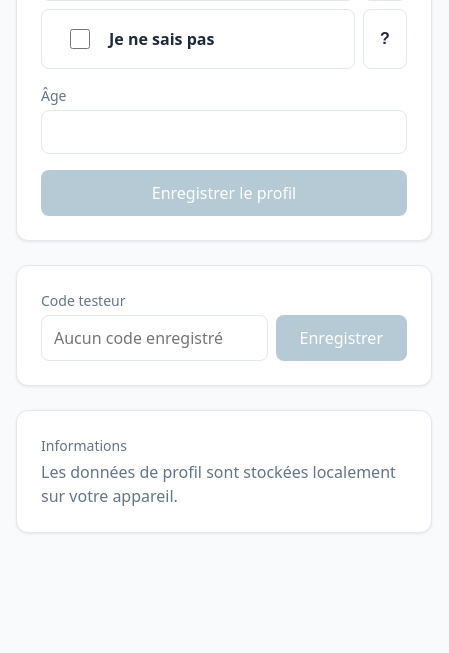
Test: E111Profile › signale une dérivation impossible sans rien enregistrer
(page scrolled)
In the field named "Code testeur": (154, 338) [41,315,268,361], type "dev"
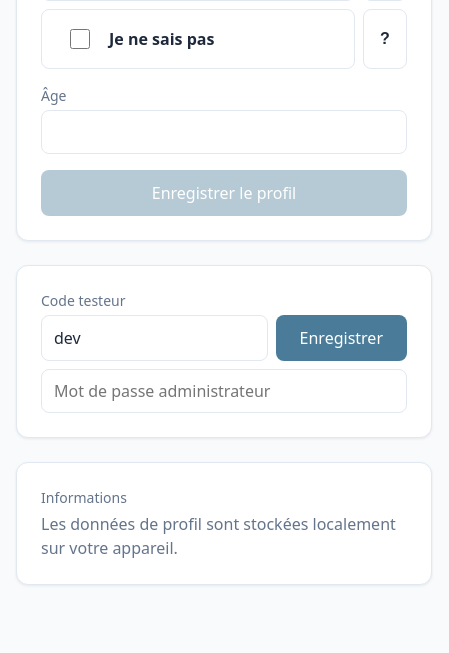
In the password field labelled "Mot de passe administrateur": (224, 391) [41,369,407,413], type "x"
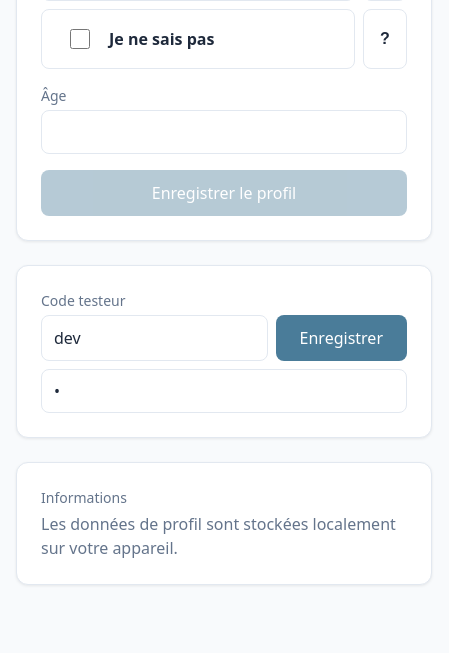
Click the button "Enregistrer": (341, 338) [276,315,407,361]
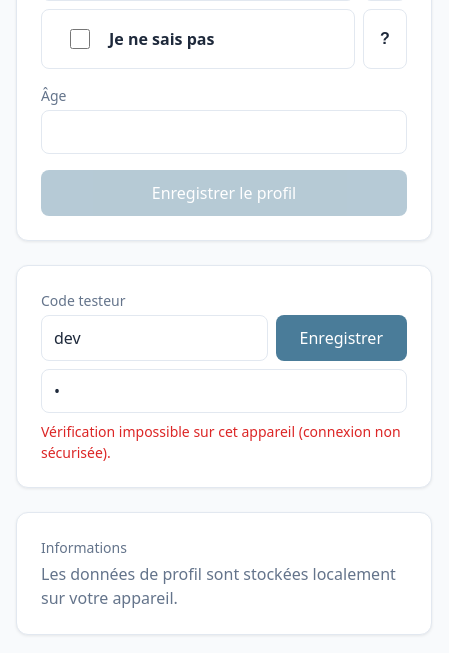
Expected: the message shows "Vérification impossible", [41,422,400,462]
